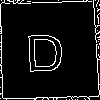D: (23, 24, 66, 72)
